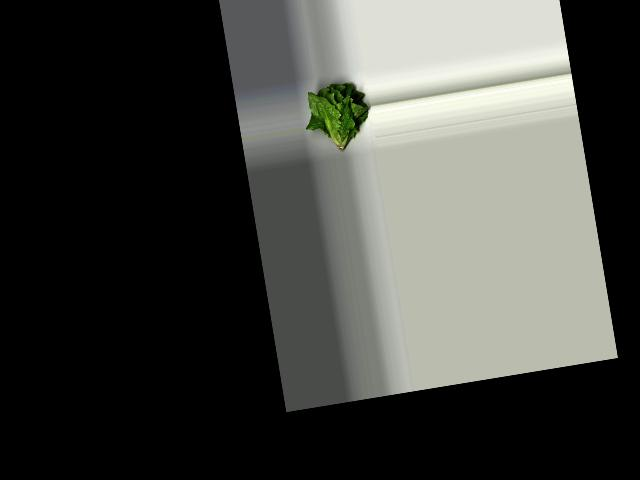lettuce: (300, 78, 374, 156)
